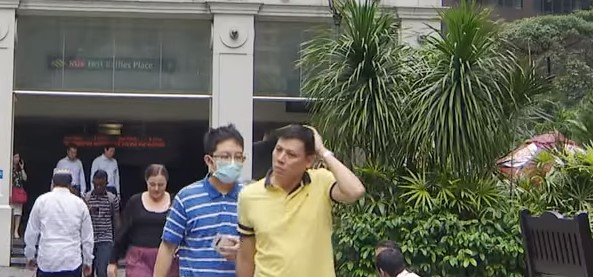face_no_mask: (271, 125, 318, 186), (143, 162, 169, 202), (89, 168, 114, 194), (100, 143, 116, 159), (64, 144, 79, 160)
face_with_mask: (202, 123, 246, 184)
